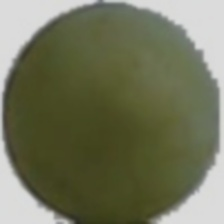grapes: (56, 44, 205, 182)
